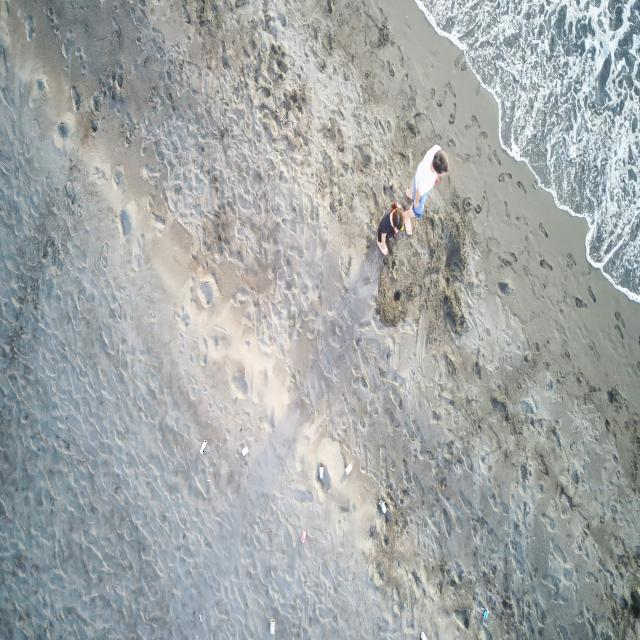Garbage: (316, 464, 327, 489), (377, 497, 387, 513), (344, 463, 352, 475), (300, 529, 306, 543), (318, 464, 323, 480), (200, 440, 206, 452), (268, 618, 272, 635), (482, 607, 487, 620), (240, 447, 247, 455), (420, 632, 426, 639), (199, 612, 200, 622)
